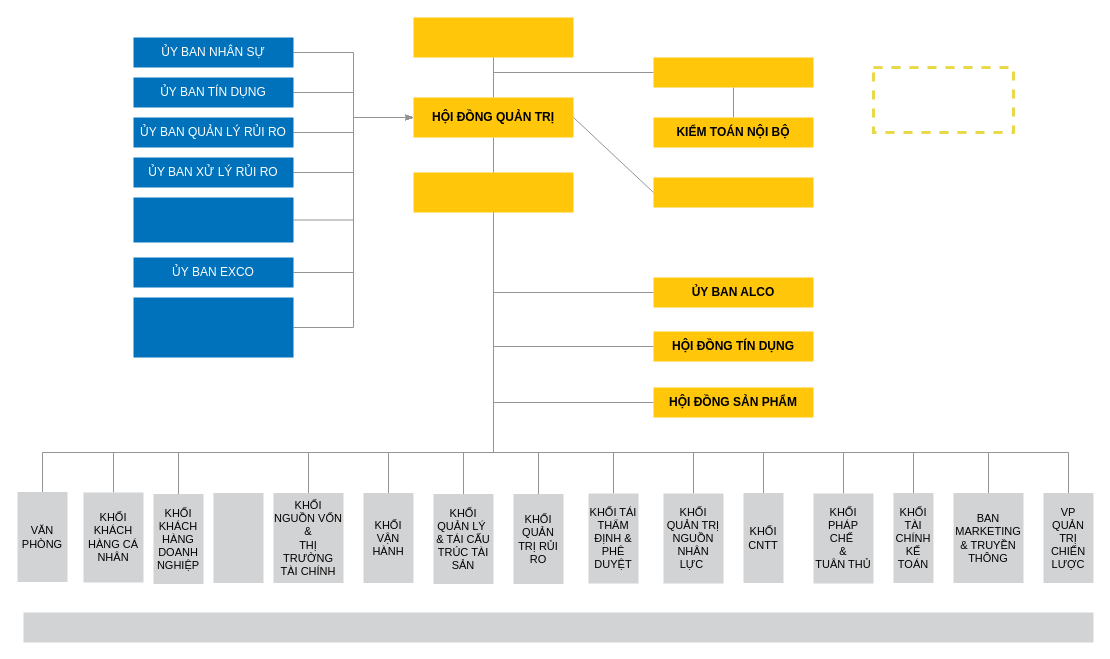
Some shapes in this 1110 by 659 pixel diagram are drawn without their labels. Here are the shapes that lost their labels. From the top down, the centre of each, then its label:
At point 493,37: "ĐẠI HỘI ĐỒNG CỔ ĐÔNG".
At point 733,72: "BAN KIỂM SOÁT".
At point 943,100: "VĂN PHÒNG ĐẢNG ỦY VÀ CÁC TỔ CHỨC ĐOÀN THỂ".
At point 493,192: "TỔNG GIÁM ĐỐC".
At point 733,192: "VĂN PHÒNG HĐQT".
At point 213,219: "ỦY BAN TÁI CƠ CẤU VÀ XỬ LÝ NỢ".
At point 213,327: "BAN CHỈ ĐẠO TRIỂN KHAI DỰ ÁN CHIẾN LƯỢC VÀ ĐỀ ÁN TÁI CẤU TRÚC".
At point 238,537: "KHỐI KHÁCH HÀNG DN LỚN".
At point 558,627: "CÁC CHI NHÁNH / PGD".
